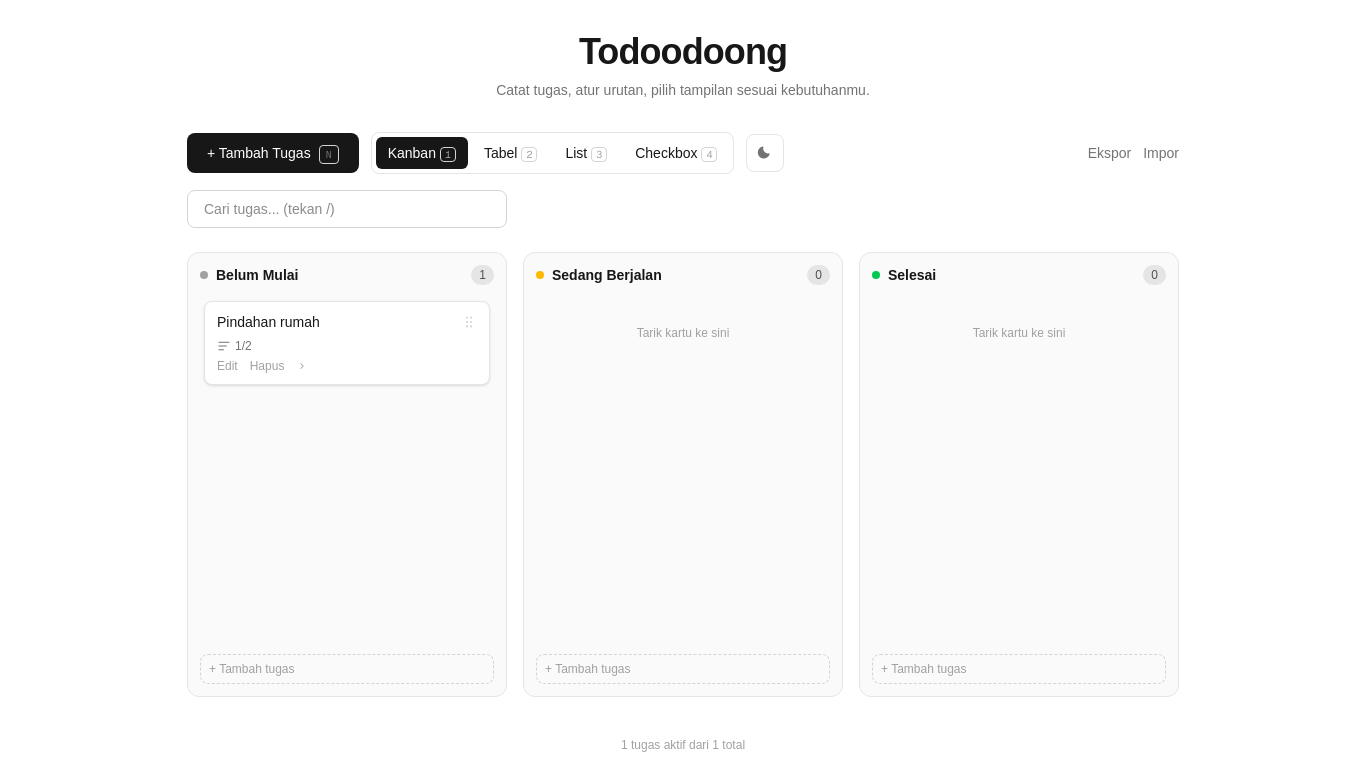
Test case: Subtugas di kartu kanban › menampilkan progres, expand, dan menambah subtugas
Check: the text "1/2" is shown, box [217, 338, 252, 354]
Click the button named "Buka subtugas". click: x=302, y=366
box: [296, 360, 308, 372]
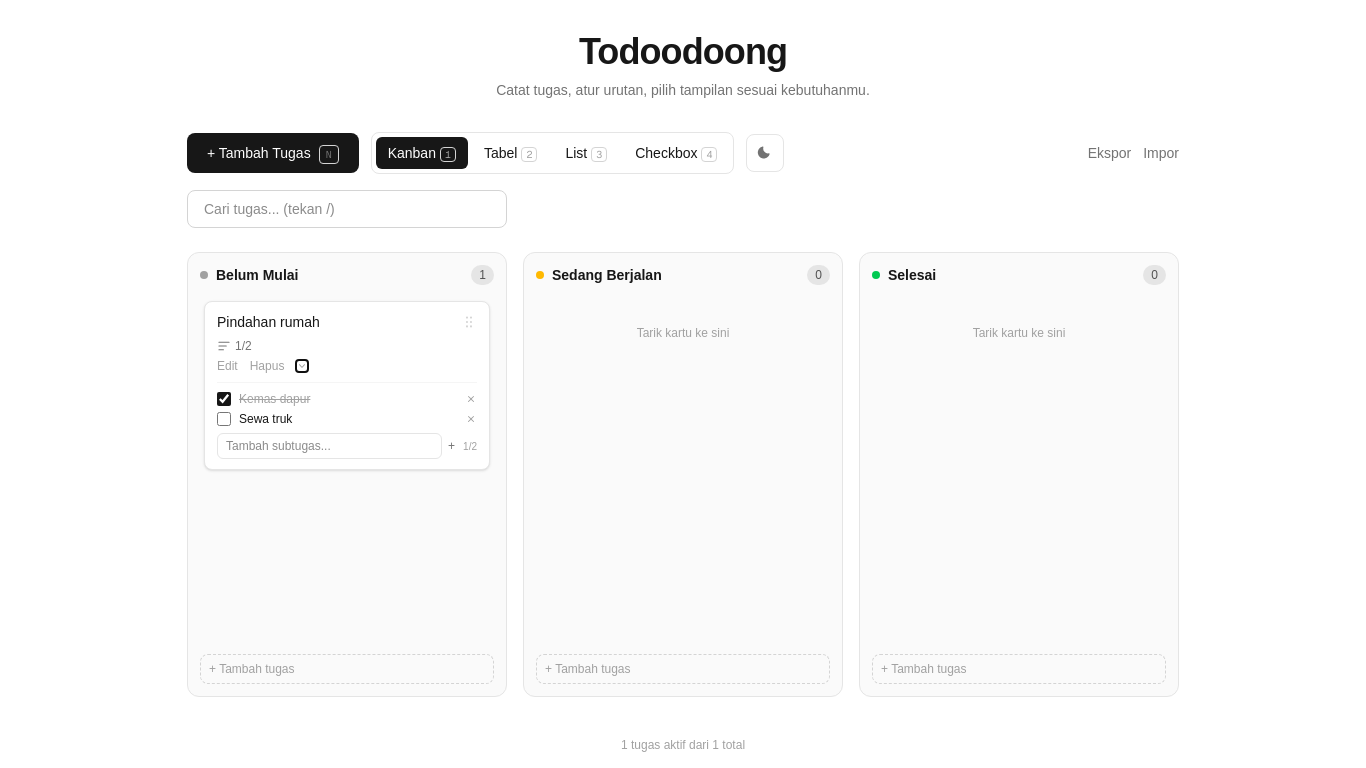
Check: the text "Kemas dapur" is shown, box [239, 392, 310, 406]
Check: the text "Sewa truk" is shown, box [239, 412, 292, 426]
Type "Catat meteran" into the field with placeholder "Tambah subtugas...". click: x=330, y=446
box: [217, 433, 442, 459]
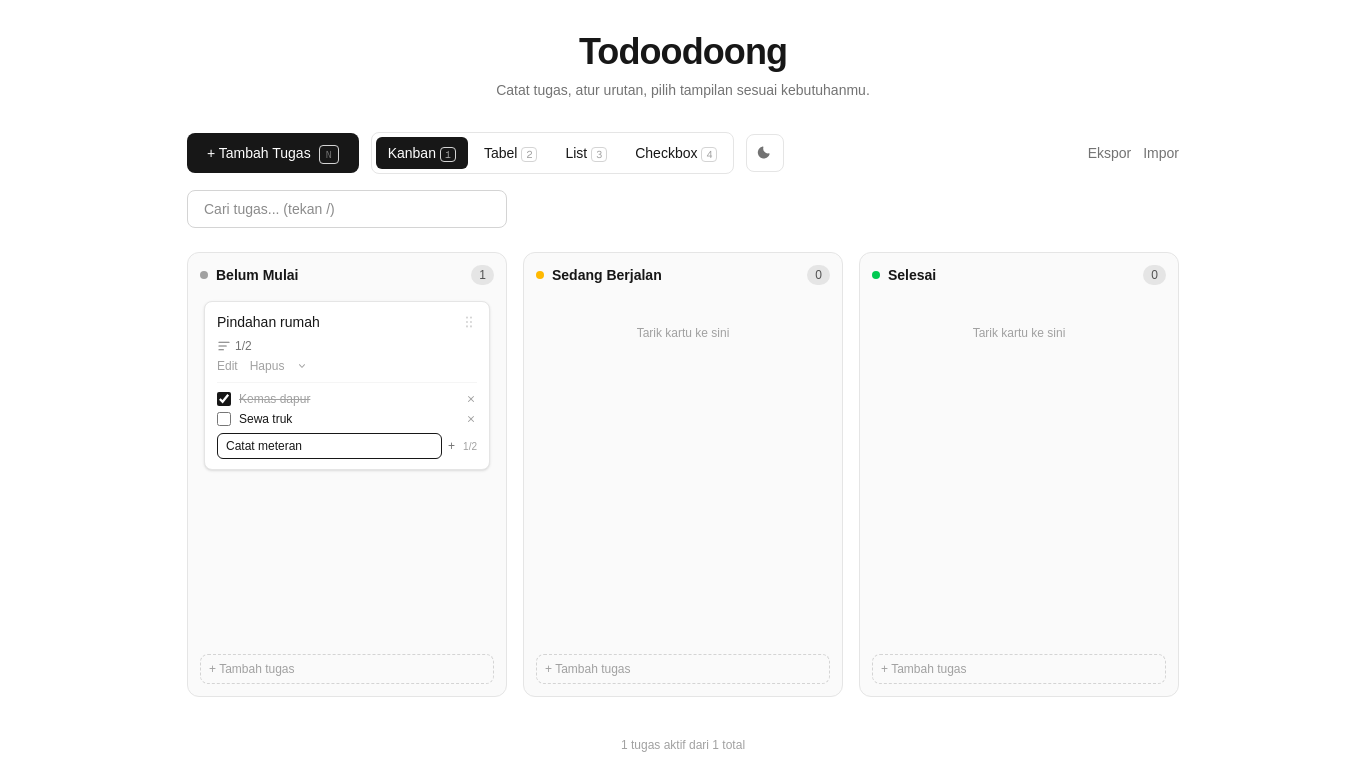
Click the button named "Tambah subtugas". click: x=452, y=446
box: [448, 438, 455, 454]
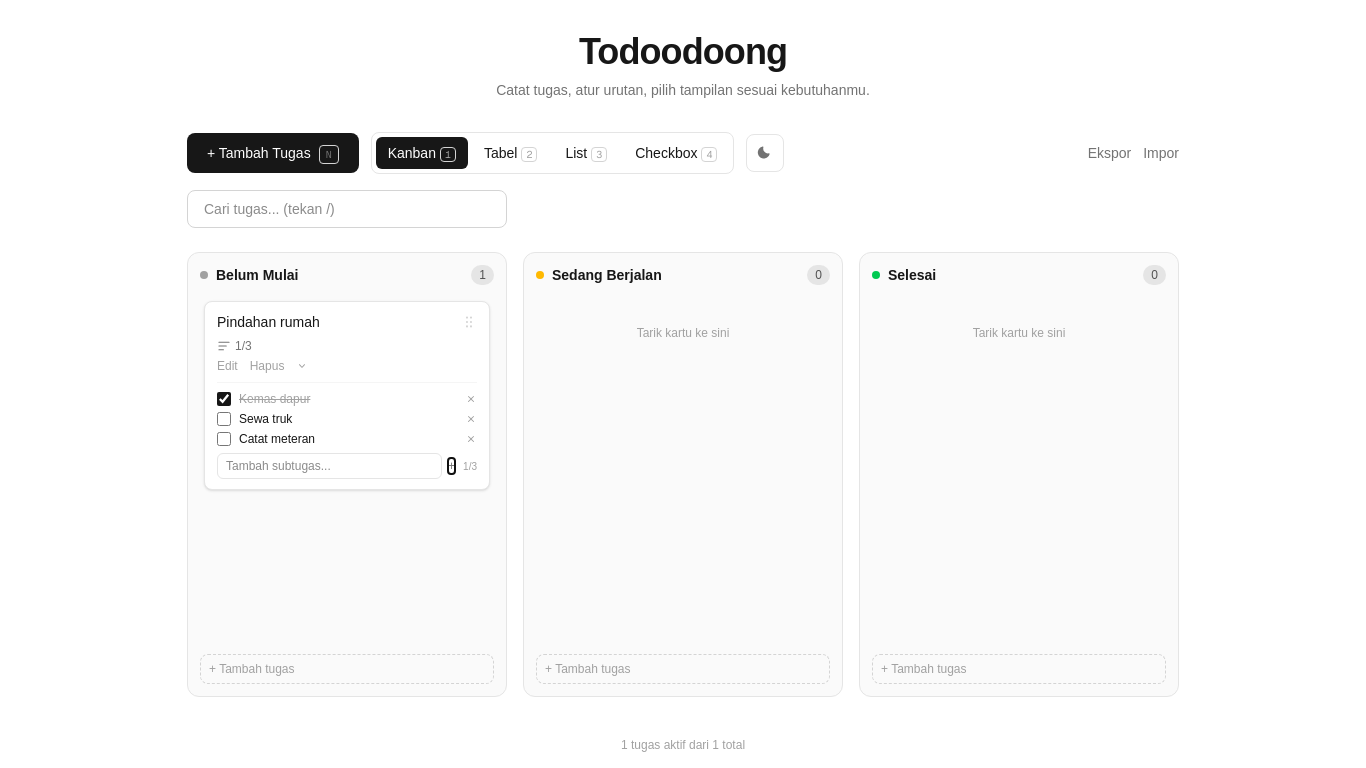
Check: the text "1/3" is shown, box [217, 338, 252, 354]
